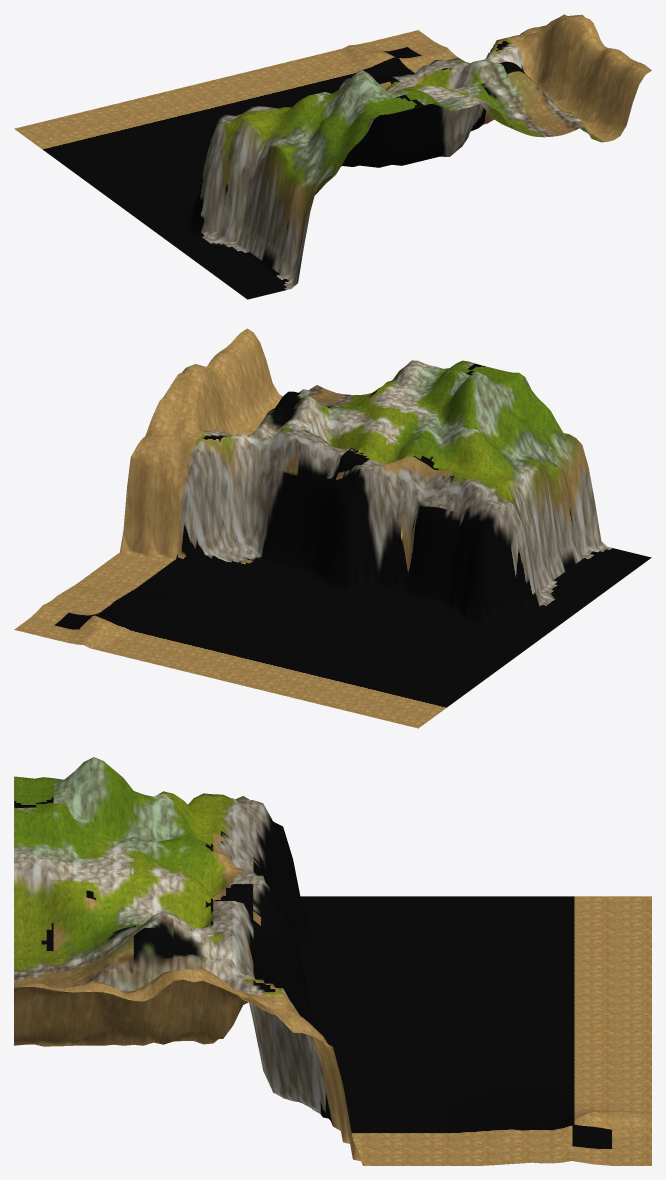
File: terrain.glb
The picture shows the model from 3 angles, top to bottom: view 1: azimuth 30°, elevation 25°; view 2: azimuth 150°, elevation 25°; view 3: azimuth 270°, elevation 25°; orthographic projection. The views are drawn at different scales.
Parts seen in each view (by area): view 1: terrain_2_4; view 2: terrain_2_4; view 3: terrain_2_4.
Part boxes in pixels (bbox=[...]): terrain_2_4: bbox=[14, 14, 651, 299]; terrain_2_4: bbox=[14, 328, 651, 728]; terrain_2_4: bbox=[14, 757, 651, 1165].
Size of the model in its own units: 512 by 208 by 512.
1 material, 1 textured.
